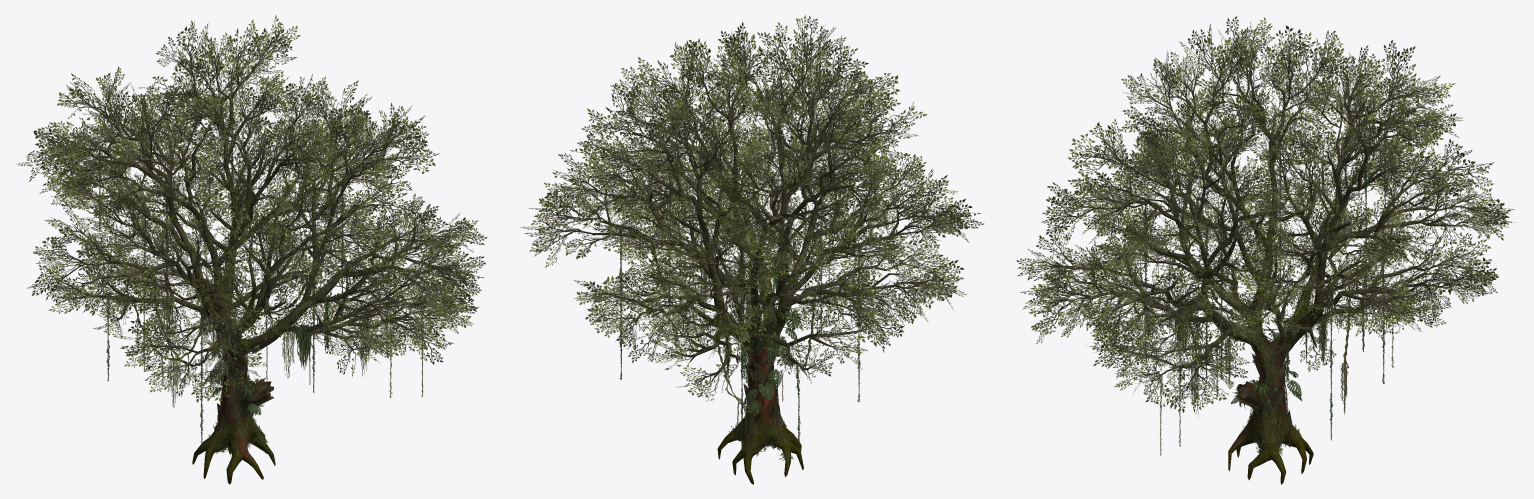
Rendered from tree.glb.
3 renders of one model, left to right at view 1: azimuth 30°, elevation 25°; view 2: azimuth 150°, elevation 25°; view 3: azimuth 270°, elevation 25°, orthographic. The views are drawn at different scales.
Visible parts, largest first — view 1: TreeGen_ClusterB_0, TreeGen_BarkB_0, TreeGen_ClusterB2_0, TreeGen_VinesB_0, TreeGen_CortexB_0; view 2: TreeGen_ClusterB_0, TreeGen_BarkB_0, TreeGen_ClusterB2_0, TreeGen_VinesB_0, TreeGen_CortexB_0; view 3: TreeGen_ClusterB_0, TreeGen_BarkB_0, TreeGen_ClusterB2_0, TreeGen_VinesB_0, TreeGen_CortexB_0.
Boxes of the visible parts, x1,y1,x2,y2 form: TreeGen_ClusterB_0: (16, 15, 487, 402); TreeGen_BarkB_0: (48, 45, 459, 484); TreeGen_ClusterB2_0: (37, 41, 459, 386); TreeGen_VinesB_0: (98, 107, 423, 453); TreeGen_CortexB_0: (217, 289, 274, 431); TreeGen_ClusterB_0: (519, 15, 984, 397); TreeGen_BarkB_0: (547, 40, 946, 484); TreeGen_ClusterB2_0: (543, 34, 956, 401); TreeGen_VinesB_0: (619, 126, 881, 463); TreeGen_CortexB_0: (713, 310, 783, 434); TreeGen_ClusterB_0: (1016, 16, 1514, 412); TreeGen_BarkB_0: (1046, 43, 1485, 484); TreeGen_ClusterB2_0: (1049, 40, 1495, 395); TreeGen_VinesB_0: (1143, 125, 1402, 459); TreeGen_CortexB_0: (1235, 314, 1323, 429).
Size of the model in its own units: 21.12 by 22.48 by 24.06.
Materials: 6 (6 with a texture image).
